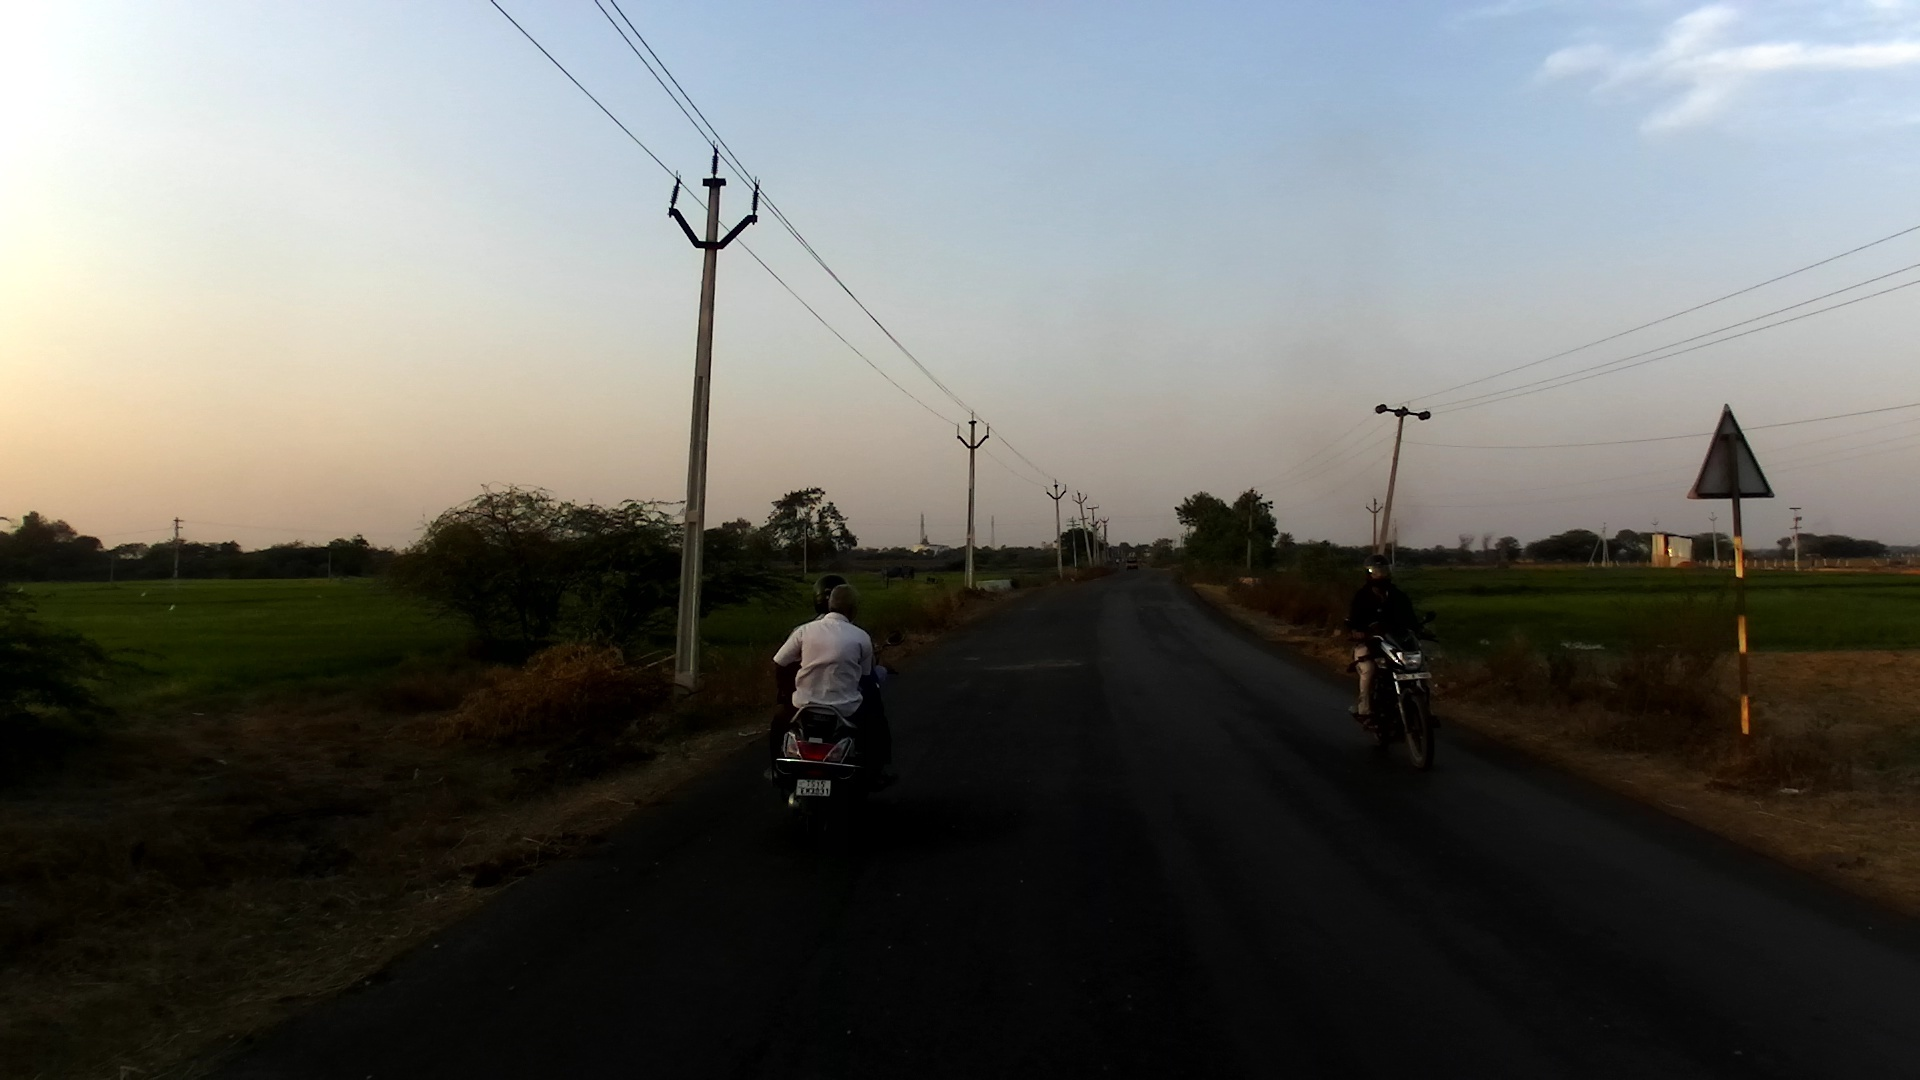autorickshaw: (1122, 553, 1142, 573)
motorcycle: (765, 629, 915, 849), (1338, 606, 1451, 775), (923, 576, 940, 584)
rider: (761, 583, 916, 799), (779, 571, 888, 732), (1345, 553, 1438, 730)
